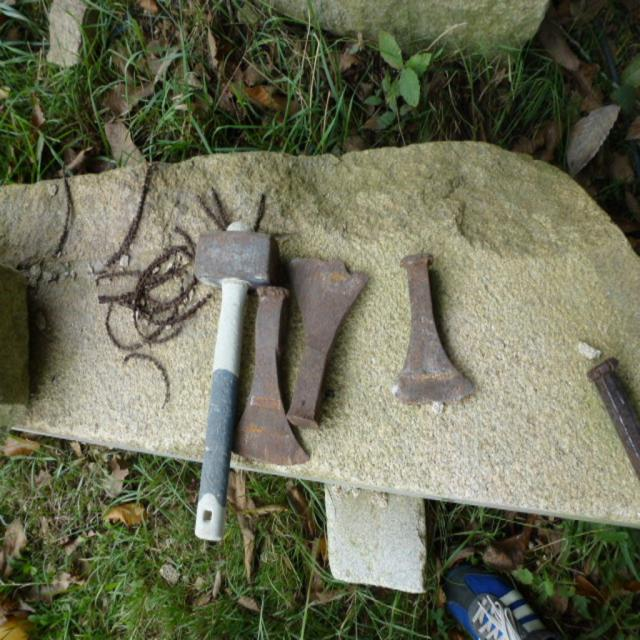hammer: (195, 220, 283, 537)
